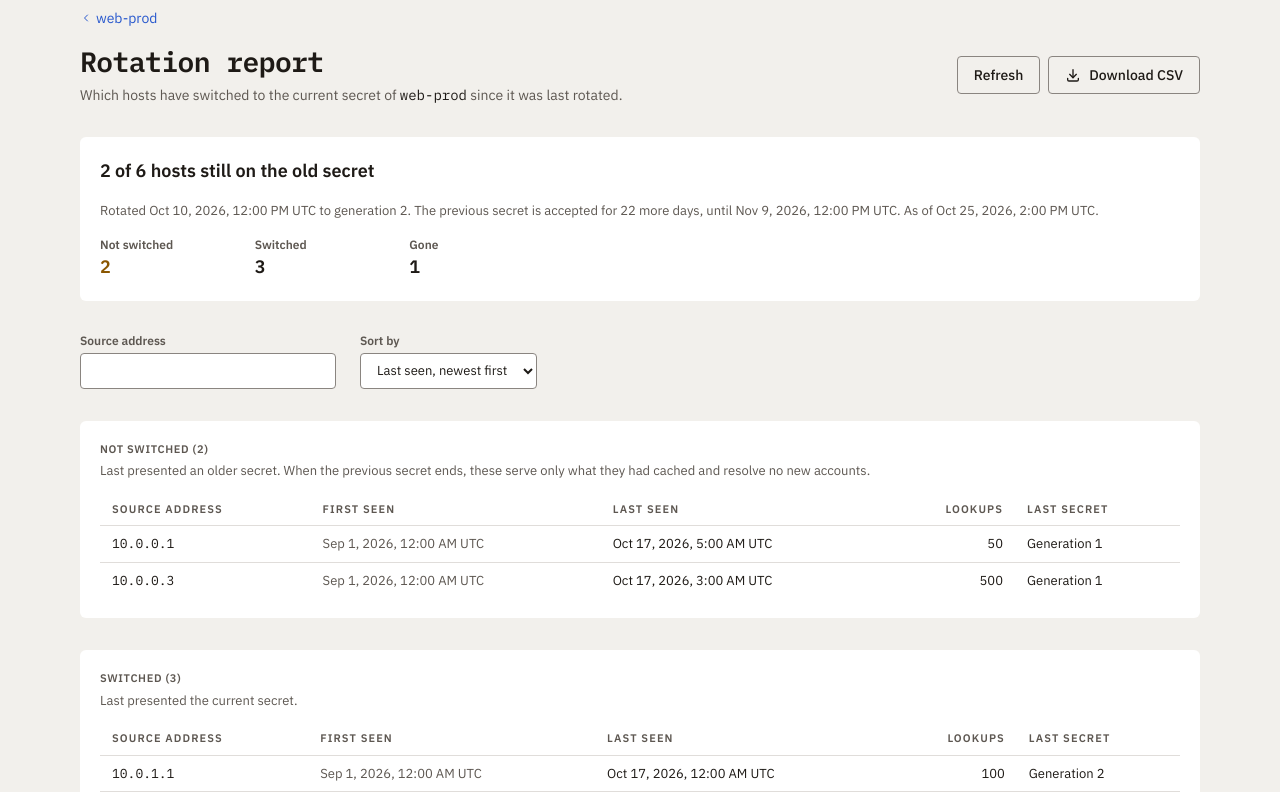
Rotation report › CSV download › should say the download failed when the server fails
Click the link with test id "rotation-csv" at (1124, 74), box [1048,56,1200,94]
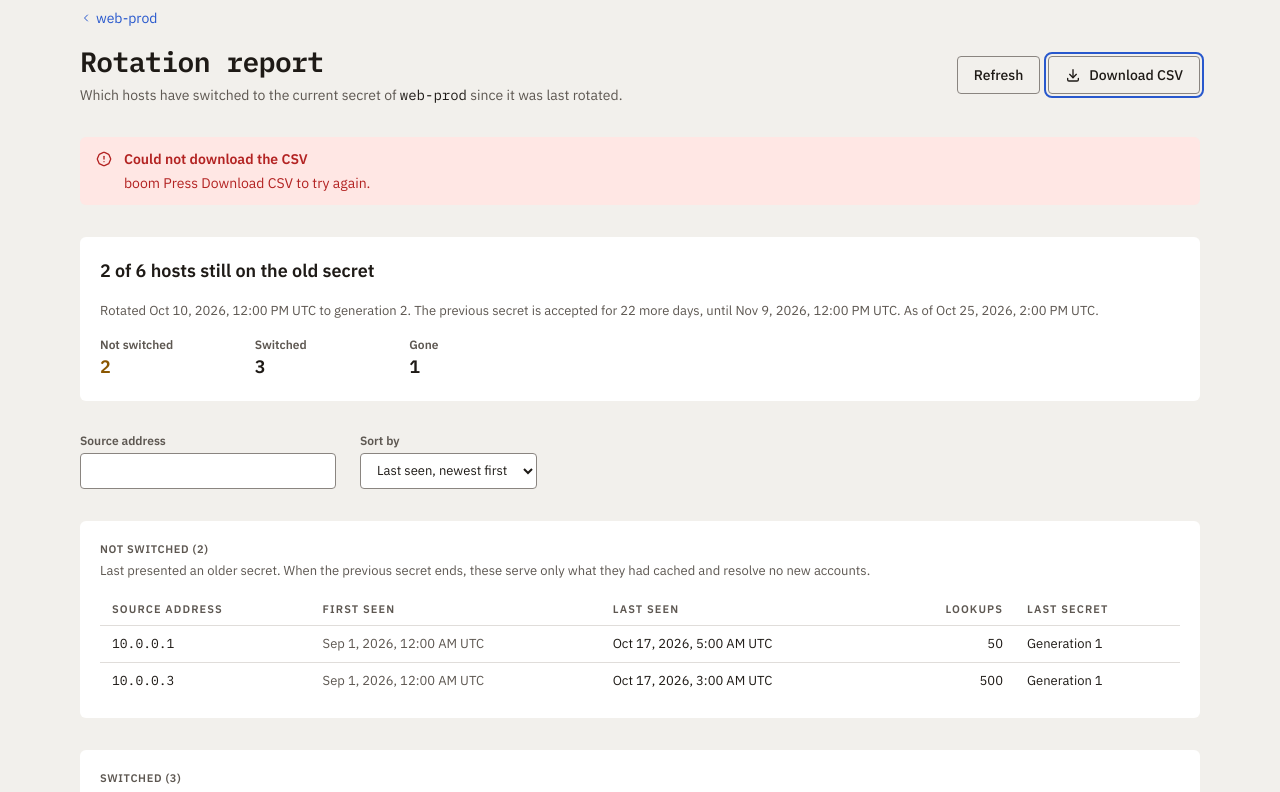
expect the message with test id "rotation-csv-error" shows "Press Download CSV to try again.": met, box [124,174,370,192]
